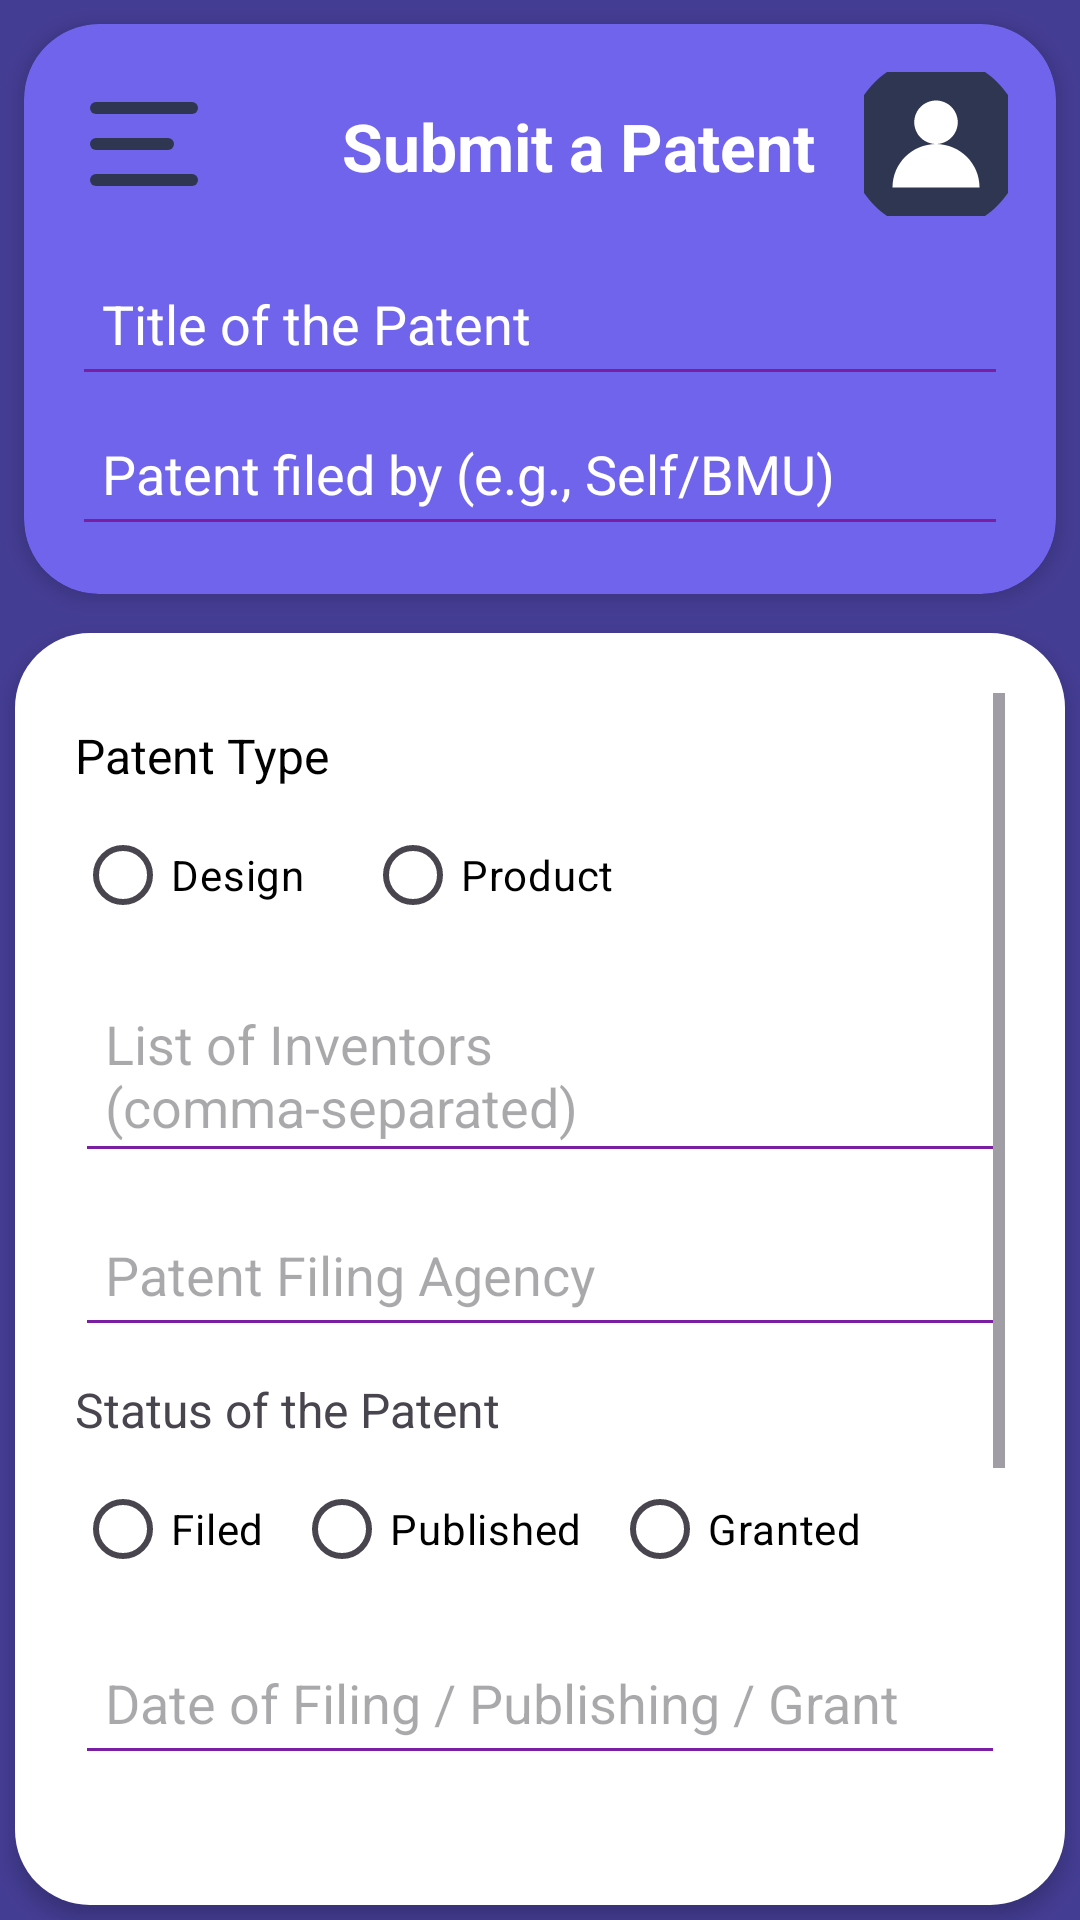

Named icons in this screenshot (1080w x 1920h) and their bounding boxes, (x1,y1,x2,y2):
Hamburger Menu: (90,102,198,186)
User Profile: (864,72,1008,216)
